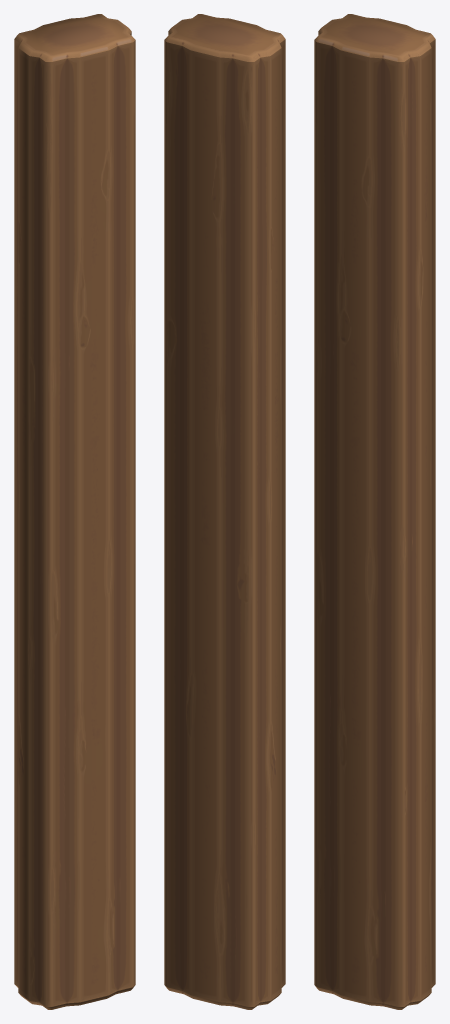
File: ARC0510087.fbx
3 views of the same model, side by side, from view 1: azimuth 30°, elevation 25°; view 2: azimuth 150°, elevation 25°; view 3: azimuth 330°, elevation 25° (orthographic).
Visible parts, largest first — view 1: smARC0510087; view 2: smARC0510087; view 3: smARC0510087.
Boxes of the visible parts, bbox=[...] form: smARC0510087: bbox=[14, 14, 135, 1009]; smARC0510087: bbox=[164, 14, 285, 1009]; smARC0510087: bbox=[314, 14, 435, 1009].
Size of the model in its own units: 33.68 by 300 by 22.45.
1 material, 1 textured.
